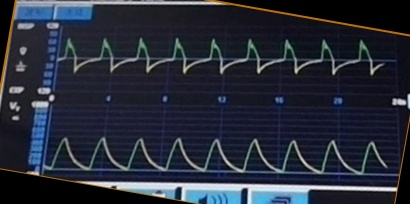Accumulation Flow: (62, 28, 374, 90)
Volume: (51, 122, 386, 180)
